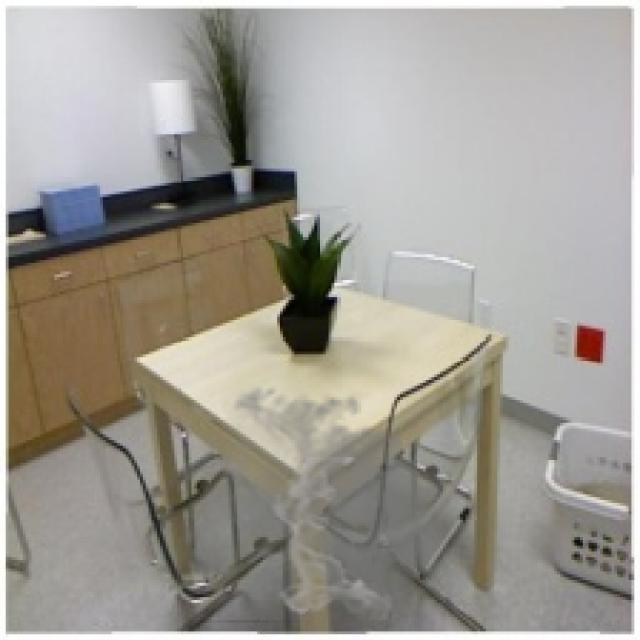Smoke: (203, 380, 460, 623)
